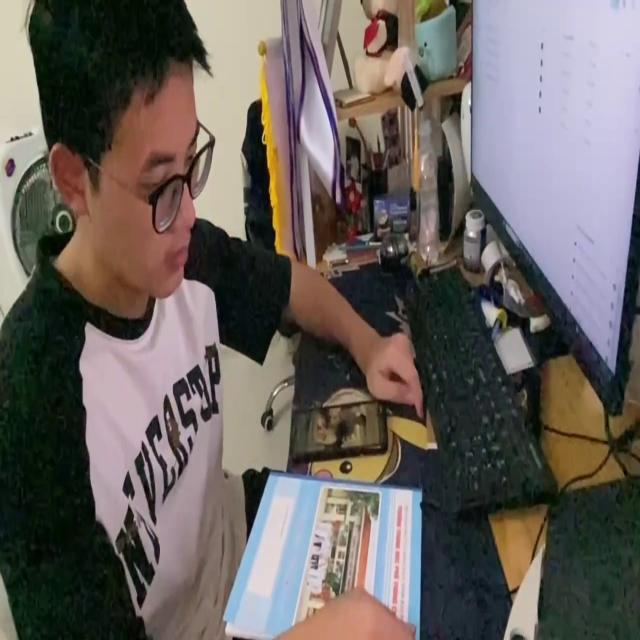book: (221, 468, 421, 640)
laptop: (468, 0, 640, 425)
phone: (286, 396, 388, 460)
student: (2, 0, 423, 640)
